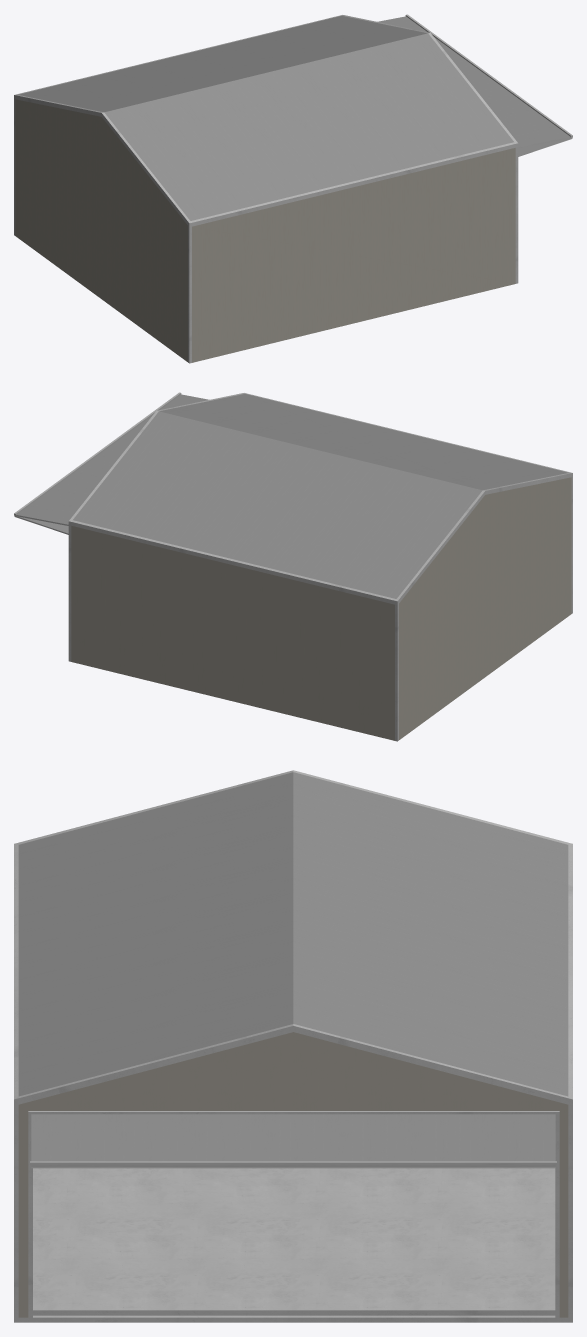
The model's file is gen_open_hangar08-12x13x5-cbj_LOD02.gltf.
The picture shows the model from 3 angles, top to bottom: view 1: azimuth 30°, elevation 25°; view 2: azimuth 150°, elevation 25°; view 3: azimuth 270°, elevation 25°; orthographic projection. The views are drawn at different scales.
Parts seen in each view (by area): view 1: Cube.016; view 2: Cube.016; view 3: Cube.016.
Boxes of the visible parts, x1,y1,x2,y2 form: Cube.016: [14, 14, 572, 363]; Cube.016: [14, 392, 572, 741]; Cube.016: [14, 770, 572, 1322].
Size of the model in its own units: 15.6 by 7.15 by 12.2.
